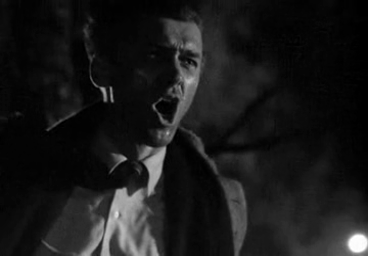face: (125, 28, 204, 148)
mcu: (1, 1, 368, 256)
person: (1, 1, 252, 256)
